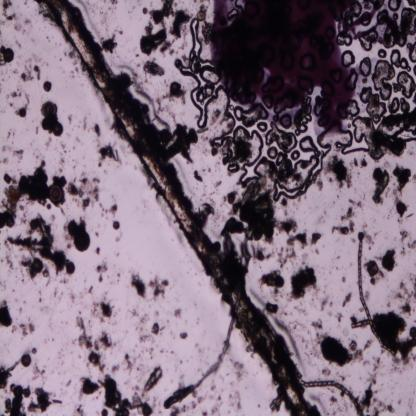Air bubble: (375, 0, 416, 48), (238, 131, 270, 184), (359, 86, 388, 124), (265, 121, 298, 153), (372, 59, 396, 101), (315, 128, 354, 152), (191, 19, 210, 63), (352, 115, 378, 146), (294, 99, 312, 135), (396, 70, 416, 100), (298, 135, 322, 157), (391, 48, 411, 72), (197, 66, 221, 85), (358, 30, 379, 51), (360, 57, 373, 80), (336, 31, 354, 47), (342, 50, 357, 67), (348, 99, 361, 117), (278, 114, 292, 130), (408, 38, 416, 63), (349, 68, 358, 90), (389, 97, 400, 114), (233, 105, 243, 123), (387, 0, 402, 12), (203, 82, 214, 96), (256, 122, 269, 132), (198, 89, 206, 103), (228, 162, 239, 172), (290, 150, 300, 161), (377, 48, 387, 59), (413, 65, 416, 75)
Background material: (2, 214, 66, 272), (225, 182, 276, 246), (0, 156, 50, 212), (372, 312, 416, 364), (272, 154, 319, 202), (314, 331, 364, 367), (160, 121, 199, 165), (68, 172, 102, 209), (368, 132, 408, 160), (287, 266, 317, 302), (381, 107, 416, 137), (139, 20, 166, 55), (326, 156, 353, 190), (73, 311, 94, 351), (98, 376, 122, 410), (170, 10, 196, 40), (61, 218, 84, 250), (277, 320, 298, 354), (28, 386, 52, 414), (0, 357, 21, 388), (391, 163, 412, 194), (393, 273, 416, 301), (372, 170, 390, 205), (95, 142, 121, 166), (19, 254, 39, 283), (258, 270, 280, 295), (219, 218, 245, 239), (149, 275, 169, 302), (165, 81, 189, 103), (154, 95, 175, 120), (91, 301, 116, 322), (249, 242, 275, 262), (76, 375, 100, 396), (222, 238, 243, 262), (391, 353, 416, 373), (372, 396, 396, 416), (87, 349, 106, 374), (144, 366, 162, 391), (378, 247, 396, 272), (276, 218, 300, 236), (130, 274, 148, 298), (0, 299, 14, 329), (134, 74, 156, 93), (237, 137, 253, 162), (85, 0, 106, 19), (278, 246, 296, 268), (5, 398, 26, 416), (100, 202, 121, 220), (220, 139, 235, 164), (231, 359, 246, 384), (197, 203, 213, 225), (361, 383, 374, 410), (0, 0, 14, 24), (286, 236, 310, 250), (133, 312, 149, 333), (174, 59, 192, 77), (95, 262, 111, 282), (30, 363, 46, 383), (99, 332, 116, 350), (338, 206, 358, 220), (180, 23, 190, 50), (162, 0, 177, 18), (210, 396, 223, 416), (19, 321, 36, 336), (66, 49, 80, 67), (132, 395, 144, 416), (210, 108, 224, 126), (362, 231, 375, 250), (101, 36, 116, 52), (398, 302, 413, 318), (123, 354, 135, 374), (115, 400, 130, 416), (118, 72, 132, 89), (331, 224, 349, 237), (265, 301, 280, 316), (370, 271, 385, 286), (191, 390, 205, 406), (309, 393, 325, 407), (309, 232, 322, 248), (160, 40, 176, 53), (230, 395, 242, 412), (41, 268, 52, 286), (52, 174, 67, 187), (11, 148, 27, 160), (74, 400, 86, 416), (138, 333, 155, 344), (334, 371, 348, 384), (343, 290, 353, 308), (3, 240, 15, 255), (362, 337, 373, 353), (319, 295, 329, 312), (226, 188, 236, 205), (4, 258, 16, 272), (349, 196, 363, 208), (407, 398, 416, 416), (102, 18, 110, 38), (310, 318, 323, 330), (329, 405, 343, 416), (25, 57, 33, 75), (368, 372, 377, 388), (178, 404, 190, 416), (192, 172, 204, 184), (207, 148, 221, 158), (126, 308, 139, 318), (168, 406, 181, 416), (292, 306, 306, 315), (15, 108, 27, 118), (13, 23, 23, 35), (301, 336, 309, 351), (68, 290, 76, 304), (334, 311, 344, 322), (198, 0, 208, 11), (291, 320, 301, 331), (311, 346, 320, 358), (407, 238, 416, 250), (349, 221, 358, 233), (20, 212, 27, 227), (24, 74, 34, 84), (12, 90, 22, 100), (194, 344, 204, 354), (400, 231, 410, 241), (152, 396, 161, 407), (142, 389, 151, 400), (132, 385, 141, 396), (152, 324, 161, 335), (305, 351, 312, 365), (146, 346, 153, 360), (45, 135, 52, 149), (51, 398, 63, 406), (82, 116, 88, 132), (316, 180, 324, 192), (34, 64, 40, 79), (111, 365, 121, 374), (359, 158, 368, 168), (208, 383, 218, 392), (176, 381, 186, 390), (1, 144, 12, 152), (342, 327, 350, 338), (94, 124, 100, 138), (216, 242, 223, 254), (23, 388, 31, 398), (320, 368, 330, 376), (411, 90, 416, 106), (25, 94, 31, 107), (0, 279, 7, 290), (60, 144, 67, 155), (93, 339, 100, 350), (94, 244, 100, 256), (59, 205, 65, 217), (179, 332, 188, 340), (2, 156, 9, 166), (400, 246, 407, 256), (136, 366, 143, 376), (387, 206, 392, 220), (34, 124, 40, 135), (364, 290, 370, 301), (385, 187, 391, 198), (215, 180, 223, 188), (350, 314, 358, 322), (197, 368, 205, 376), (318, 215, 326, 223), (168, 48, 176, 56), (189, 402, 197, 410), (210, 196, 218, 204), (174, 310, 182, 318), (87, 287, 94, 296), (408, 146, 415, 155), (59, 158, 66, 167), (330, 396, 337, 405), (67, 115, 72, 127), (107, 6, 117, 12), (182, 54, 188, 64), (361, 222, 369, 229), (383, 161, 391, 168), (19, 205, 26, 213), (373, 232, 380, 240), (54, 287, 59, 298), (38, 292, 43, 303), (6, 131, 12, 140), (406, 212, 415, 218), (100, 410, 109, 416), (57, 165, 62, 175), (354, 158, 359, 168), (218, 375, 225, 382), (210, 189, 217, 196), (12, 324, 18, 332), (325, 310, 333, 316), (200, 192, 206, 200), (66, 380, 72, 388), (116, 272, 120, 284), (148, 9, 154, 17), (282, 310, 288, 318), (360, 78, 368, 84), (350, 158, 354, 170), (201, 410, 208, 416), (111, 0, 118, 6), (5, 93, 10, 101), (373, 364, 377, 374), (398, 398, 402, 408), (256, 402, 261, 410), (9, 101, 15, 107), (333, 265, 339, 271), (125, 380, 131, 386), (160, 325, 166, 331), (412, 173, 416, 182), (75, 136, 80, 143), (228, 105, 235, 110), (75, 66, 79, 74), (393, 188, 397, 196), (398, 217, 402, 225), (314, 249, 320, 254), (71, 165, 77, 170), (116, 236, 121, 242), (340, 392, 345, 398), (155, 310, 160, 316), (362, 194, 366, 201), (223, 195, 227, 202), (95, 231, 99, 238), (336, 255, 341, 260), (160, 349, 165, 354), (180, 375, 185, 380), (157, 410, 162, 415), (21, 73, 26, 78), (119, 30, 124, 35), (202, 167, 206, 173), (308, 330, 312, 336), (365, 361, 369, 367), (342, 277, 346, 283), (35, 155, 39, 160), (136, 53, 140, 58), (330, 303, 334, 308), (359, 308, 364, 312), (180, 360, 184, 365), (64, 281, 69, 285), (375, 159, 380, 163), (197, 319, 200, 325), (388, 300, 390, 308), (170, 351, 174, 355), (99, 163, 102, 168), (337, 194, 340, 199), (208, 167, 210, 173), (226, 373, 229, 377), (138, 63, 140, 68), (187, 360, 190, 363), (325, 212, 327, 216), (117, 30, 119, 33), (364, 154, 366, 157), (21, 308, 22, 314), (191, 356, 193, 358), (115, 29, 116, 32)
Cellulose filter fibre: (169, 317, 235, 408)
Diatom: (300, 378, 366, 416), (356, 240, 373, 322), (74, 229, 92, 252), (142, 60, 165, 76), (350, 317, 374, 330), (49, 184, 63, 204), (40, 102, 58, 116), (394, 201, 407, 217), (31, 257, 43, 273), (366, 261, 378, 276), (3, 48, 14, 63), (53, 122, 63, 137), (20, 354, 31, 367), (372, 168, 383, 181), (42, 117, 52, 131), (153, 10, 163, 24), (275, 276, 285, 289), (13, 385, 23, 397), (142, 404, 152, 416), (197, 10, 206, 22), (0, 211, 6, 227), (66, 262, 74, 274), (44, 82, 52, 93), (409, 326, 416, 338), (112, 221, 121, 230), (350, 341, 358, 350), (358, 231, 363, 240), (142, 7, 147, 15), (32, 348, 37, 354), (47, 204, 51, 210)
Microfibre: (40, 0, 310, 416)
Pen: (211, 0, 356, 129)
